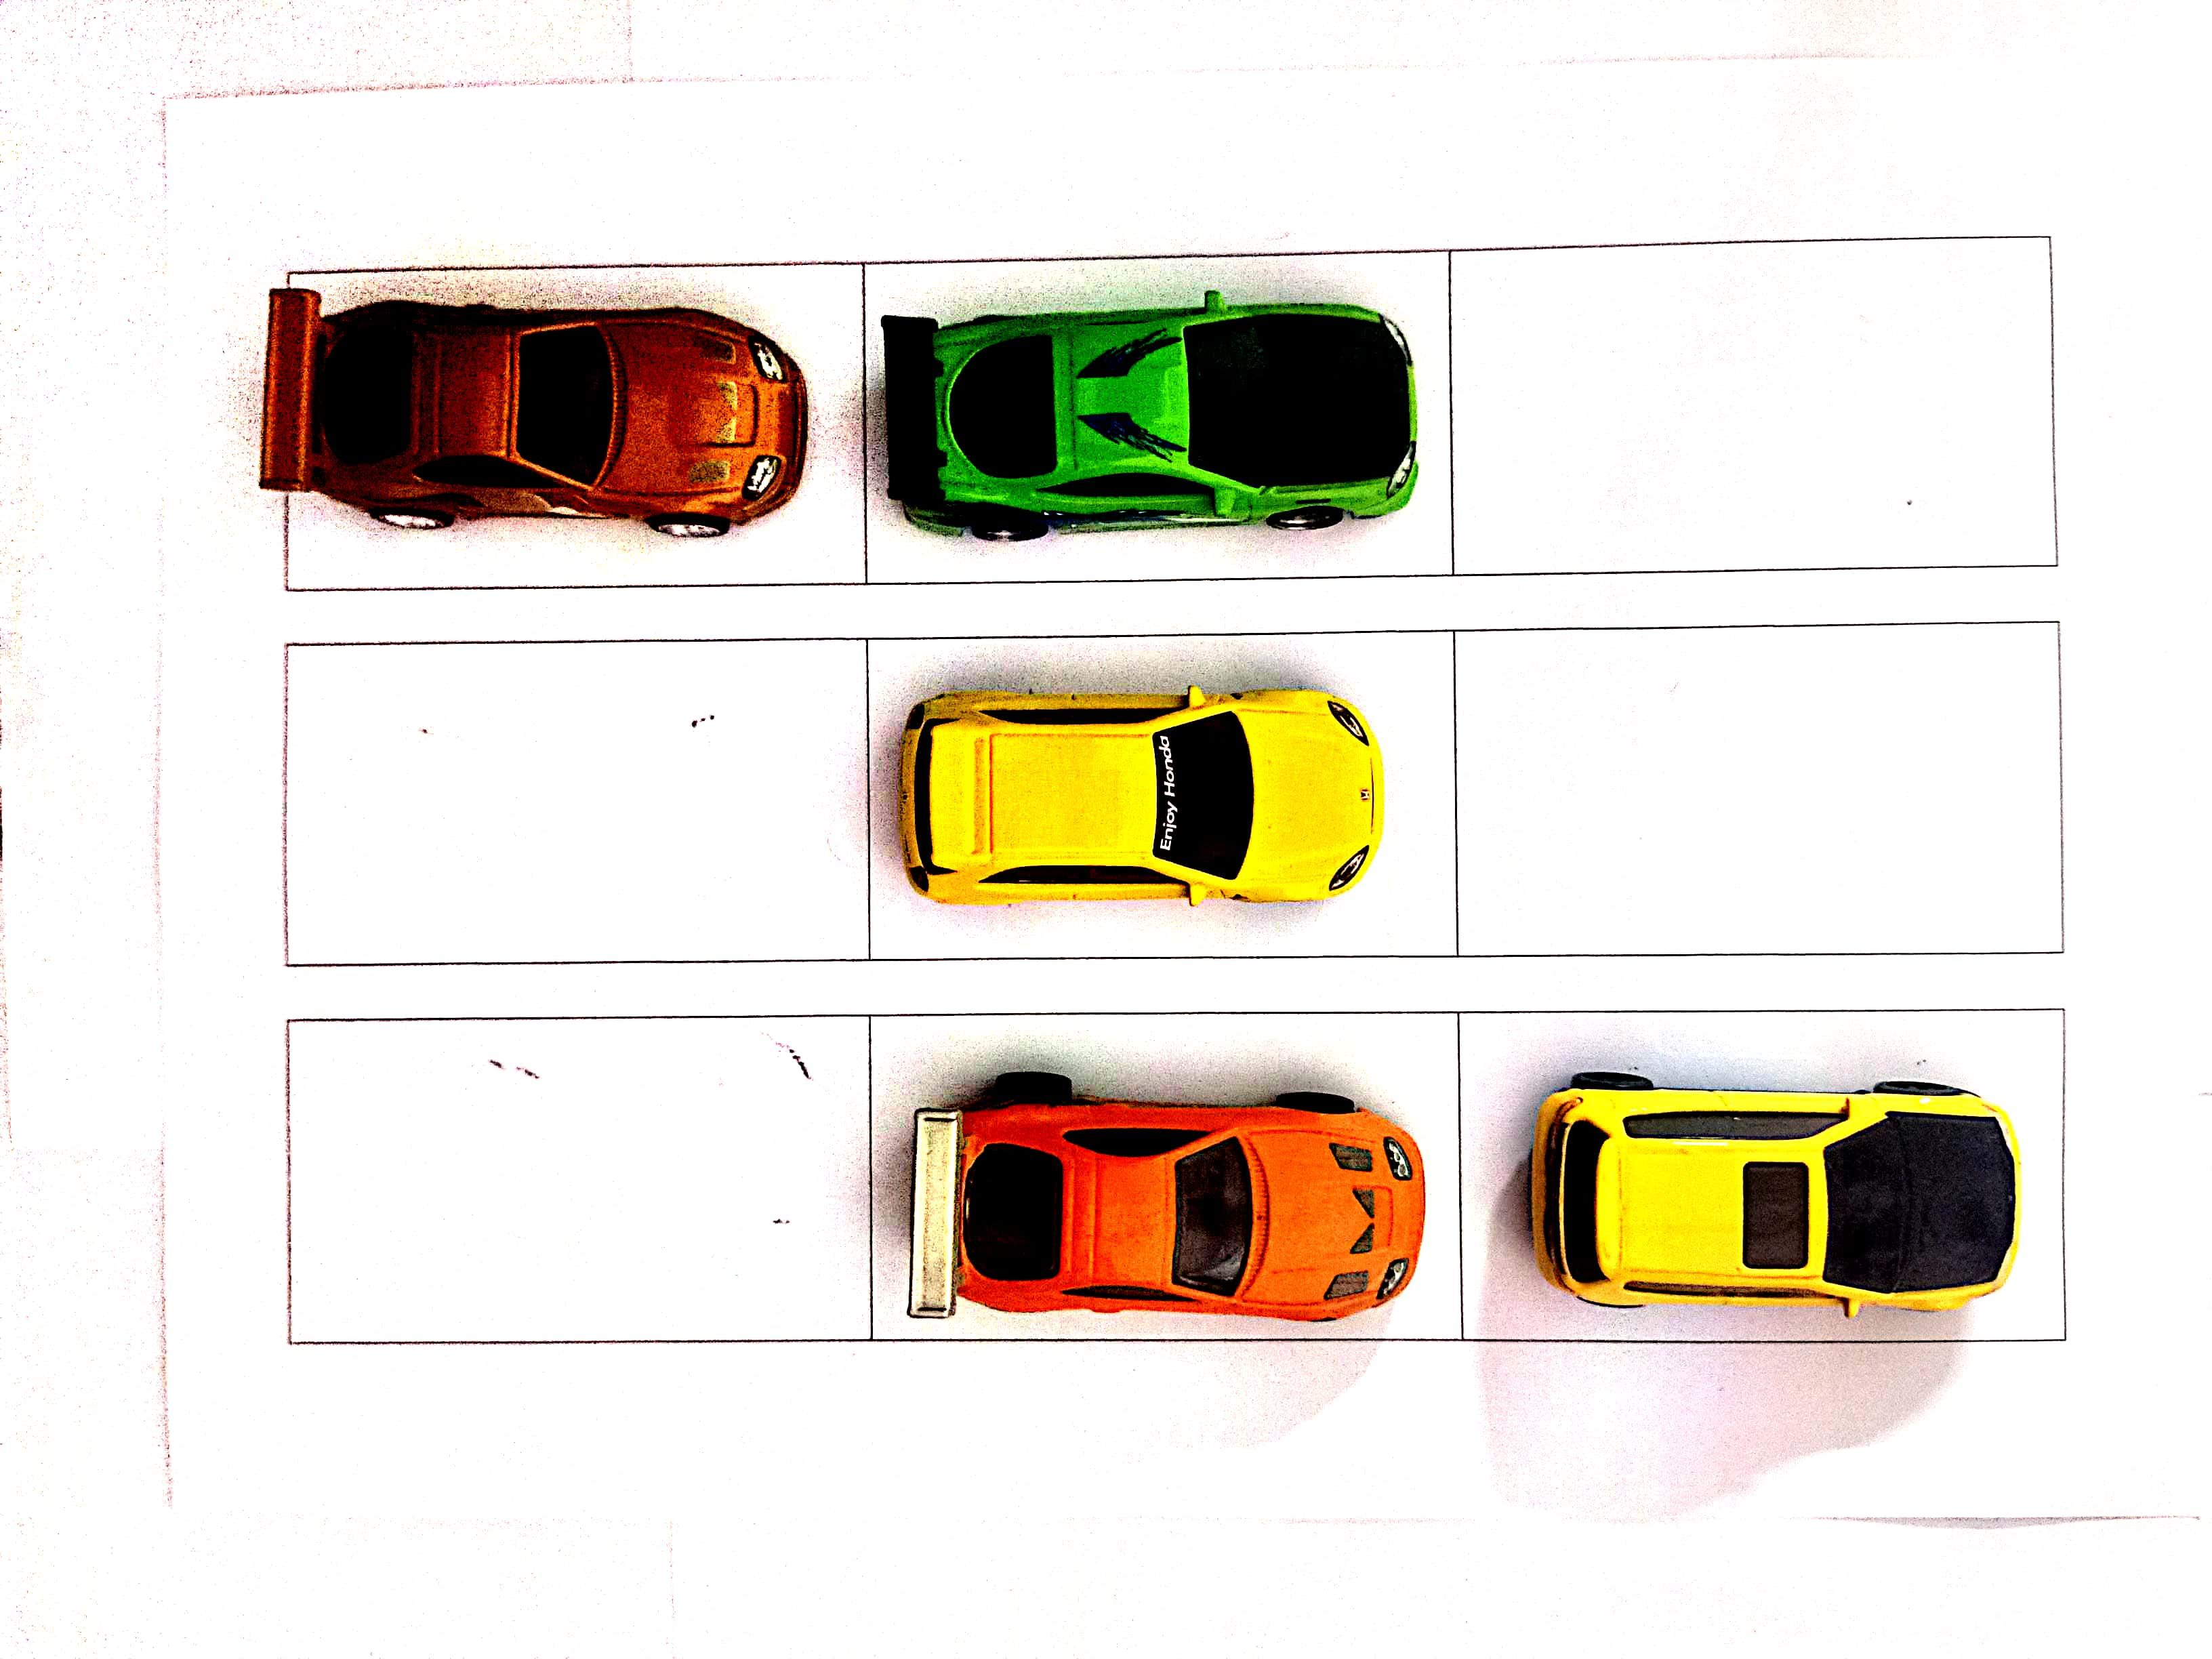Busy: (1458, 1009, 2055, 1340), (866, 253, 1449, 589), (871, 1014, 1458, 1340), (869, 631, 1458, 955), (287, 261, 862, 593)
Free: (1458, 627, 2055, 955), (1449, 240, 2047, 568), (291, 645, 869, 962), (294, 1023, 871, 1331)
